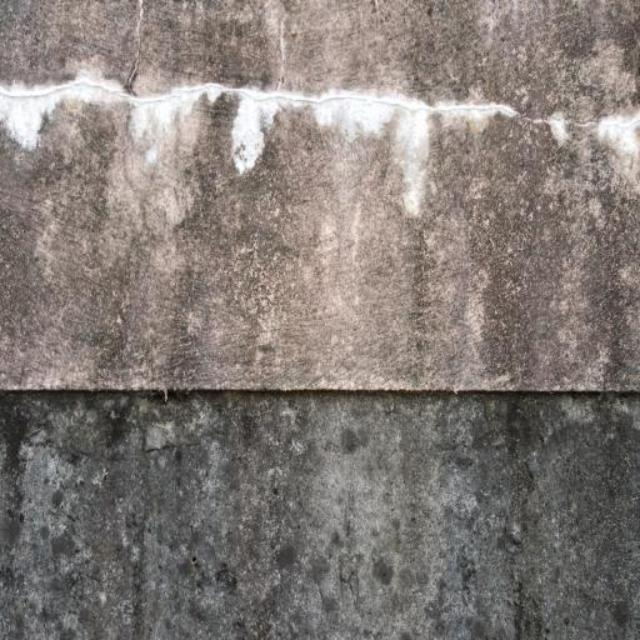D01: (0, 82, 517, 213), (594, 114, 639, 172)
